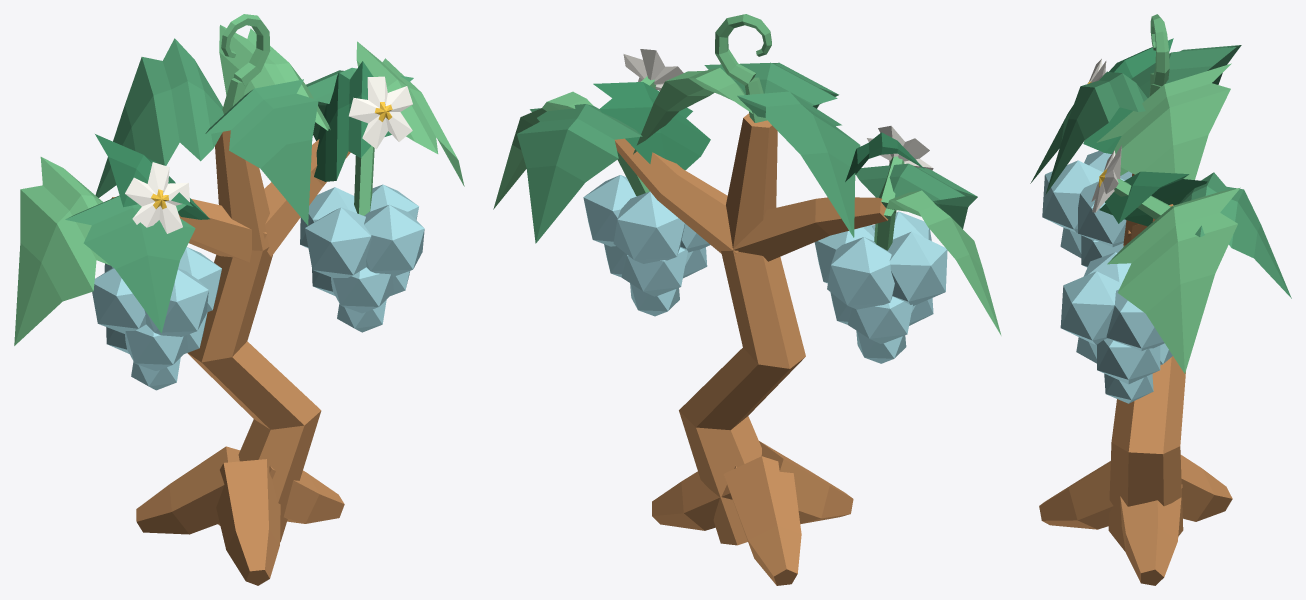
The model's file is 24-ice-grape.glb.
3 views of the same model, side by side, from view 1: azimuth 30°, elevation 25°; view 2: azimuth 150°, elevation 25°; view 3: azimuth 270°, elevation 25° (orthographic). The views are drawn at different scales.
Parts seen in each view (by area): view 1: 24-ice-grape_Body; view 2: 24-ice-grape_Body; view 3: 24-ice-grape_Body.
Boxes of the visible parts, x1=… form: 24-ice-grape_Body: x1=14, y1=14, x2=464, y2=585; 24-ice-grape_Body: x1=493, y1=14, x2=1001, y2=585; 24-ice-grape_Body: x1=1030, y1=14, x2=1291, y2=585.
Bounding box in the file's own units: 0.6039 × 0.6356 × 0.286.
1 material, 1 textured.
